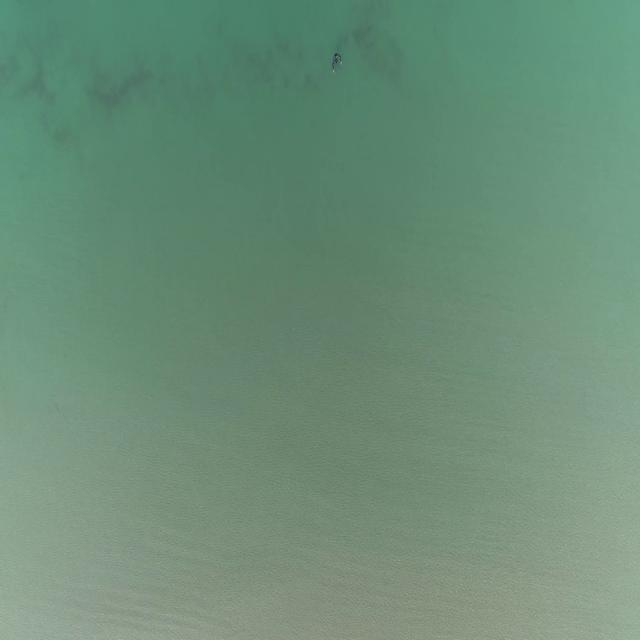person: (331, 52, 344, 72)
